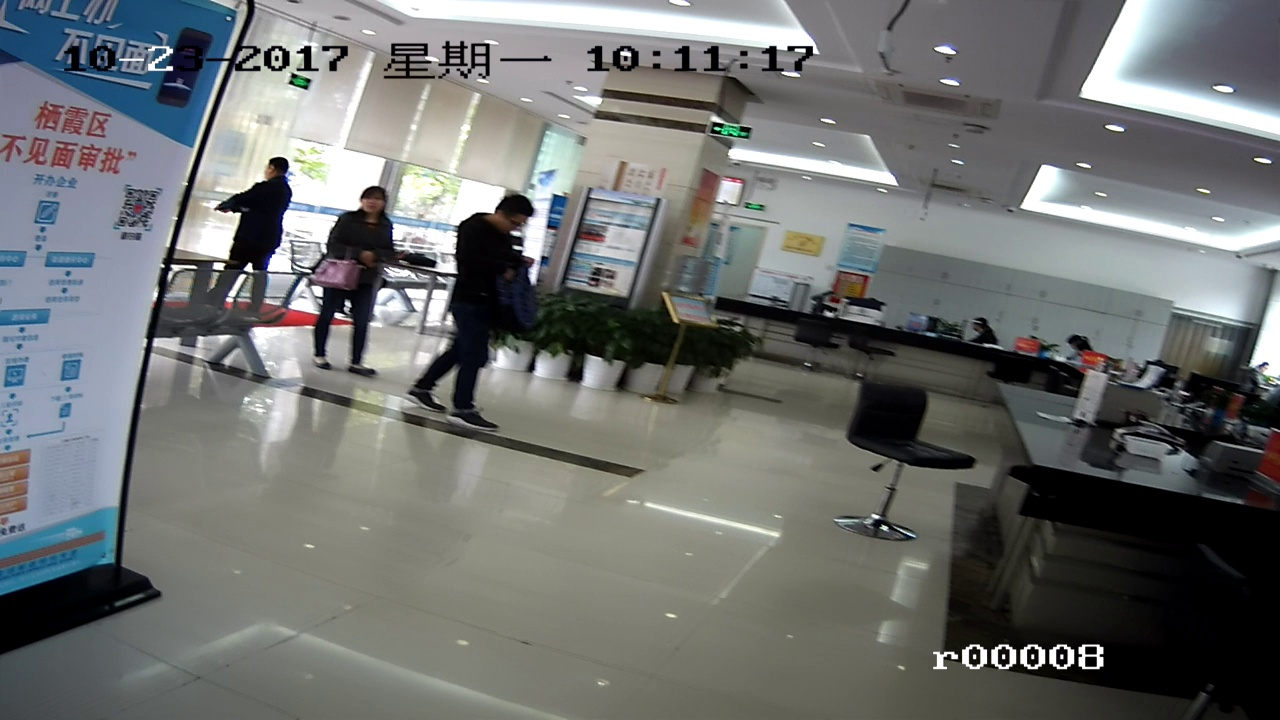billboard: (667, 296, 725, 328)
chair: (860, 385, 973, 538), (853, 328, 891, 384), (798, 329, 829, 378)
person: (439, 191, 523, 438), (330, 186, 409, 390), (233, 152, 313, 314), (969, 313, 1001, 336)
pot: (581, 308, 638, 403)
